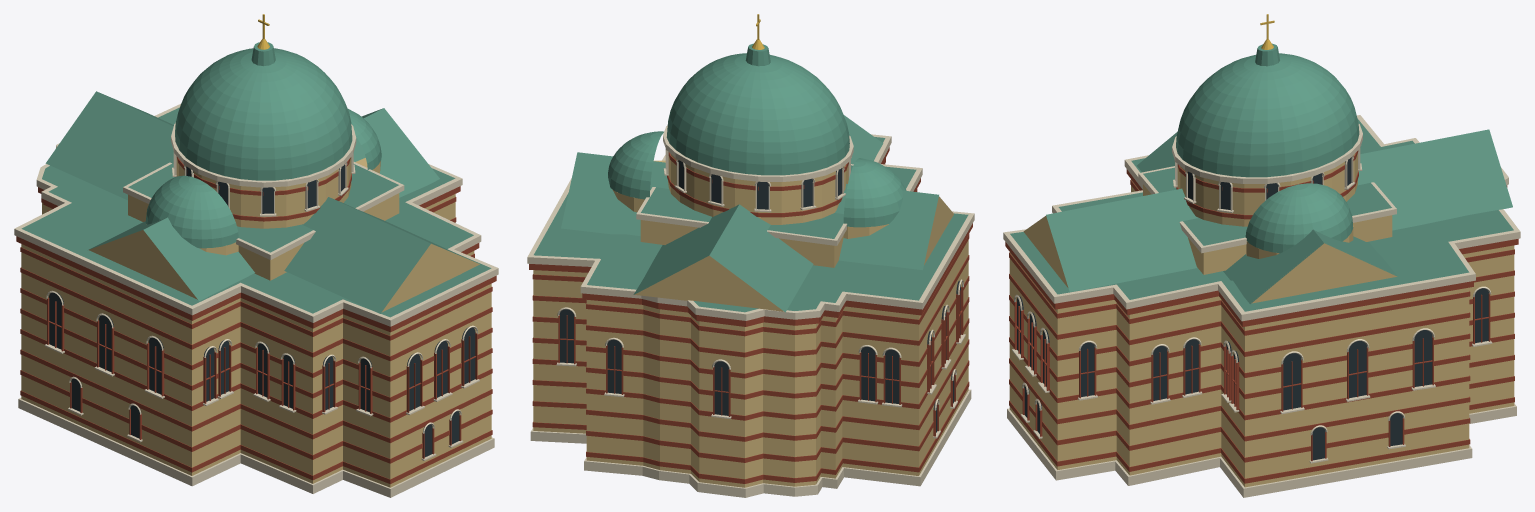
Rendered from st_sophia_cathedral_bayswater.glb.
3 views of the same model, side by side, from view 1: azimuth 30°, elevation 25°; view 2: azimuth 150°, elevation 25°; view 3: azimuth 270°, elevation 25° (orthographic). The views are drawn at different scales.
Size of the model in its own units: 31.95 by 30.58 by 35.5.
